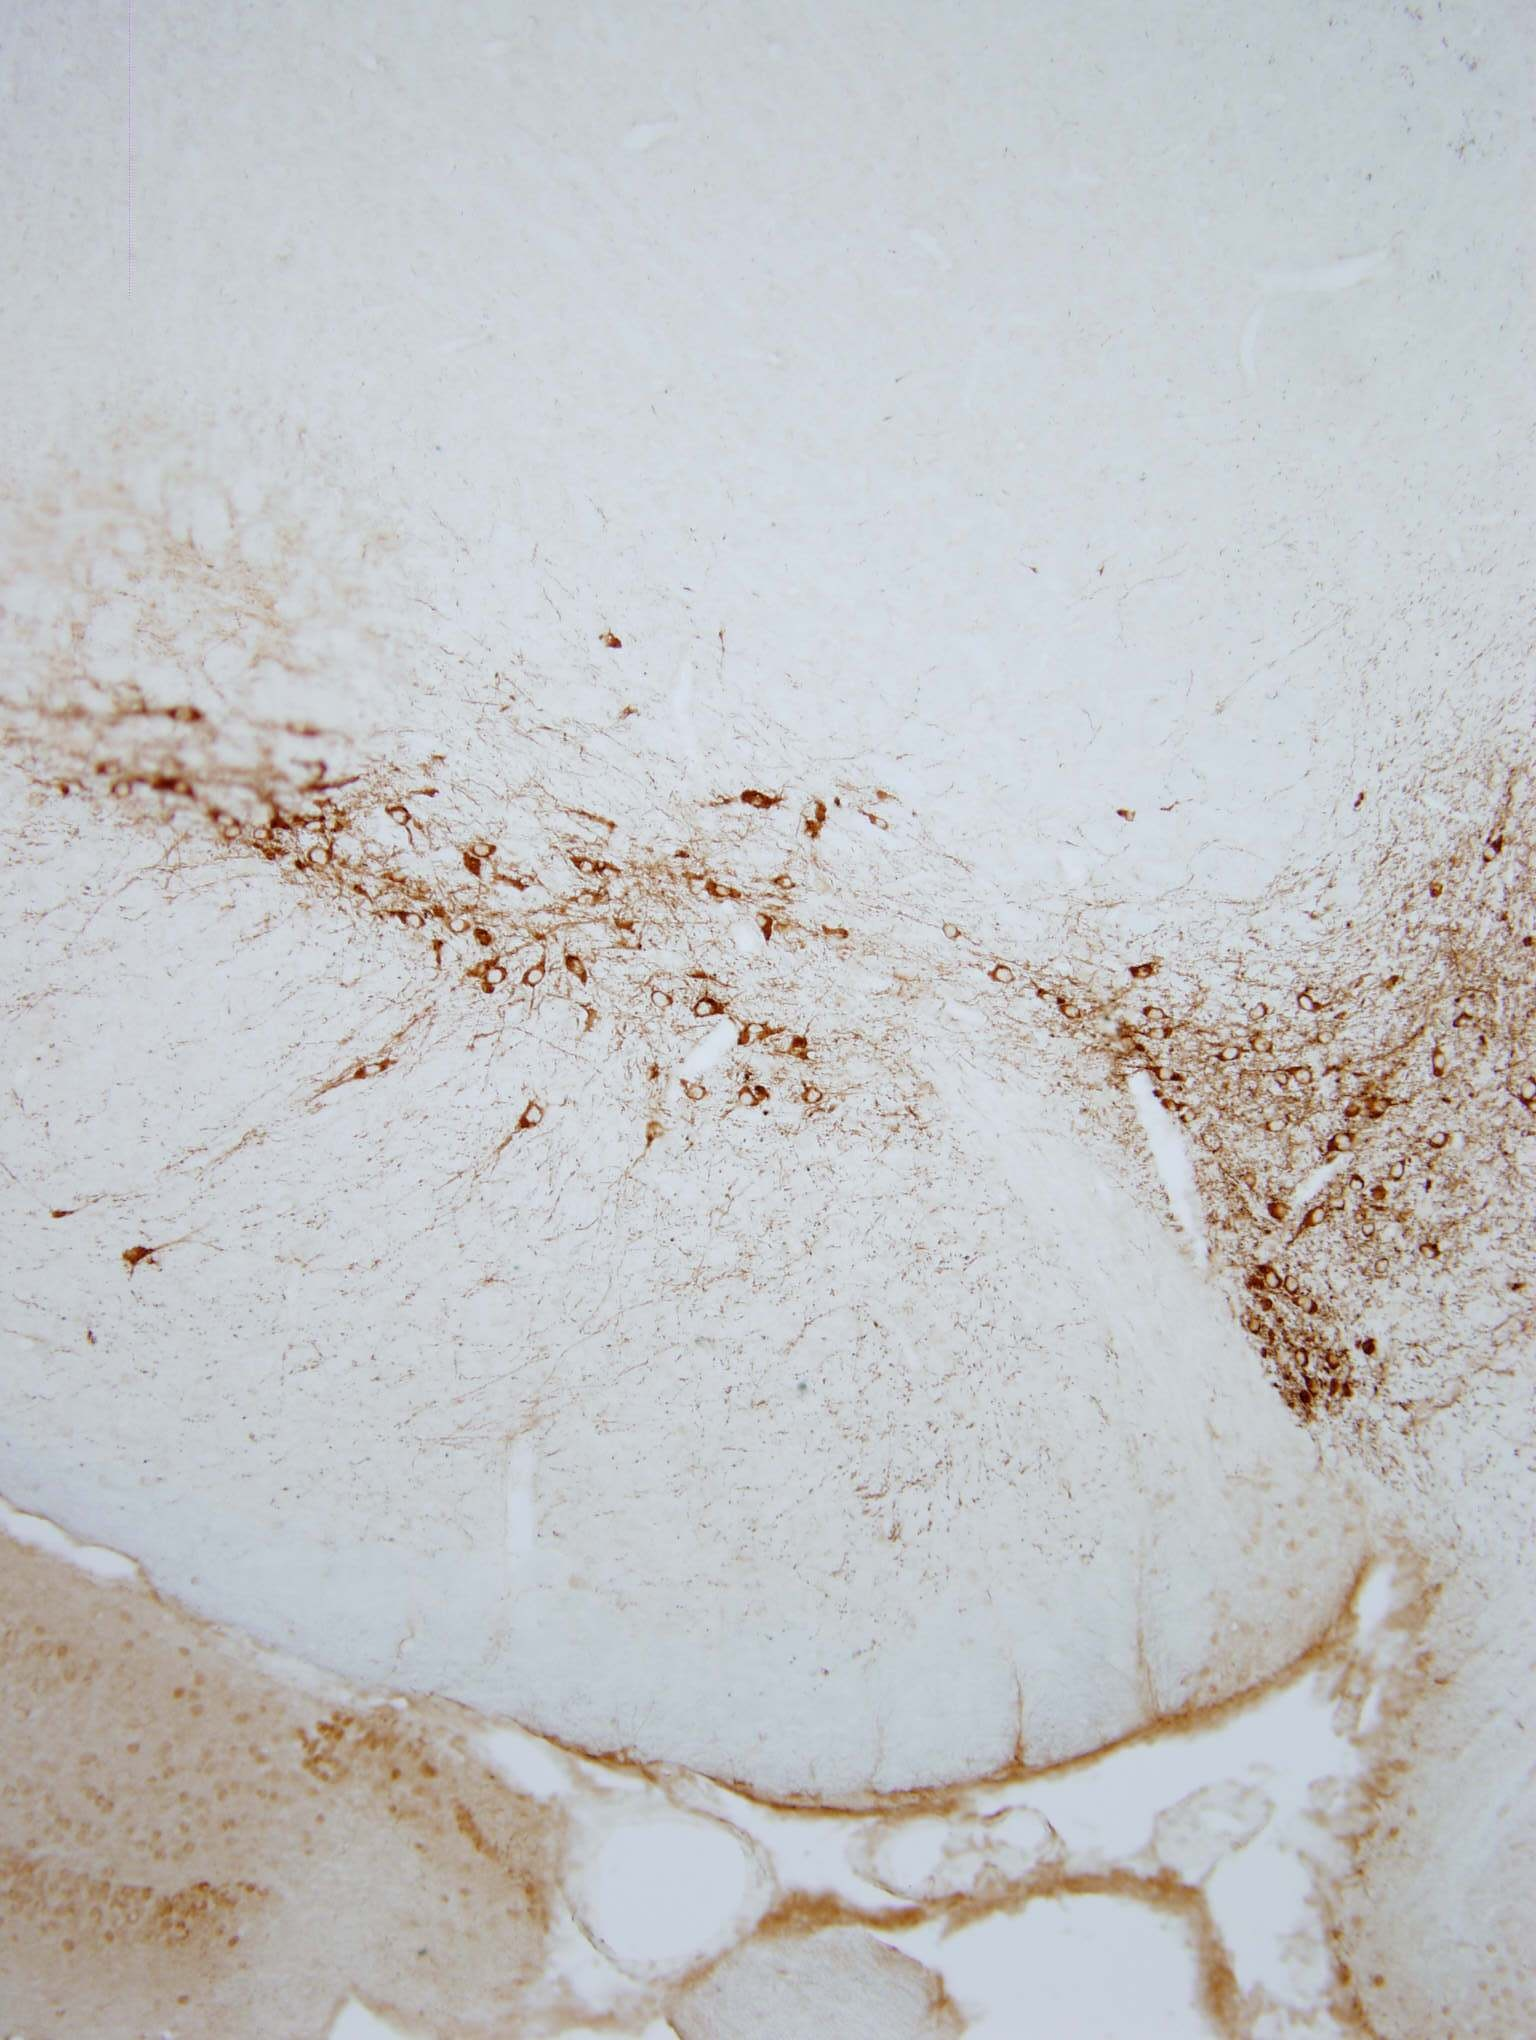neuron: (1246, 1026, 1283, 1063), (679, 1072, 716, 1110), (795, 1077, 833, 1114), (984, 956, 1021, 993), (1033, 977, 1068, 1014), (108, 772, 144, 810), (1137, 993, 1173, 1030), (1263, 1193, 1299, 1230), (1291, 1285, 1326, 1322), (1300, 1198, 1336, 1235), (1326, 1126, 1363, 1161), (1363, 1089, 1399, 1126), (1421, 1045, 1459, 1080), (165, 772, 202, 808), (168, 693, 203, 731), (386, 797, 421, 834), (520, 1098, 555, 1135), (645, 982, 682, 1018), (707, 872, 742, 910), (733, 1080, 770, 1116), (737, 1011, 774, 1047), (745, 905, 781, 942), (1141, 1019, 1176, 1055), (1149, 1053, 1184, 1089), (1213, 1035, 1249, 1071), (1288, 1060, 1323, 1095), (1291, 984, 1326, 1019), (1383, 1153, 1418, 1189), (1425, 1121, 1460, 1156), (1478, 832, 1513, 868), (307, 842, 342, 877), (357, 1051, 392, 1087), (397, 905, 432, 940), (468, 831, 503, 866), (481, 958, 516, 993), (523, 960, 558, 995), (560, 955, 595, 990), (573, 850, 608, 885), (691, 990, 726, 1026), (858, 803, 894, 839), (1060, 1000, 1084, 1024), (1162, 1095, 1186, 1119), (1263, 1268, 1288, 1292), (1267, 1113, 1291, 1137), (1267, 1068, 1291, 1092), (1279, 1272, 1304, 1297), (1291, 1348, 1315, 1372), (1302, 1376, 1326, 1400), (1317, 1027, 1341, 1051), (1323, 1350, 1347, 1374), (1347, 1171, 1371, 1195), (1359, 1218, 1383, 1242), (1367, 1132, 1391, 1156), (1418, 1240, 1442, 1264), (215, 806, 239, 831), (223, 821, 247, 845), (252, 824, 276, 848), (305, 814, 329, 839), (319, 795, 344, 819), (323, 814, 347, 839), (389, 866, 413, 890), (450, 914, 474, 939), (776, 869, 800, 893), (98, 756, 123, 781), (1179, 1105, 1204, 1127), (1373, 1255, 1397, 1277), (1418, 1429, 1442, 1451), (941, 921, 963, 945)
